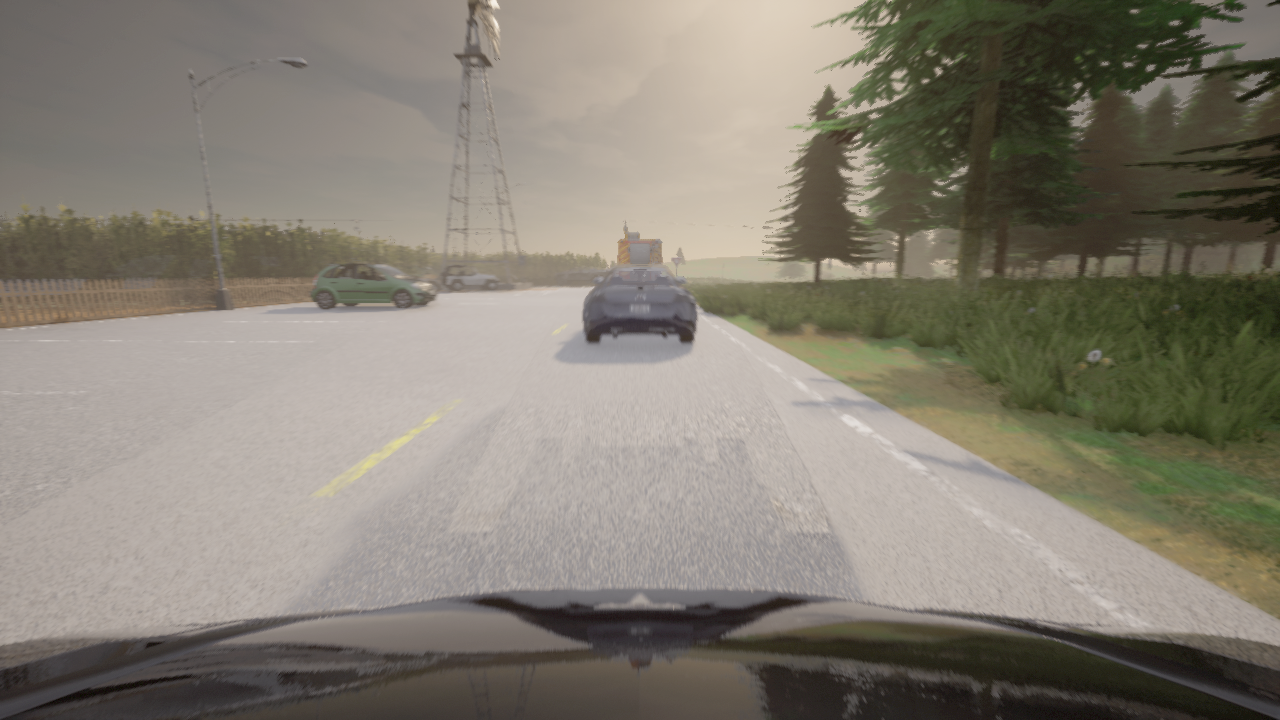cyclist: (0, 588, 1279, 719), (583, 265, 696, 342), (310, 263, 437, 308), (441, 265, 500, 291), (619, 233, 661, 265), (554, 266, 609, 286)
